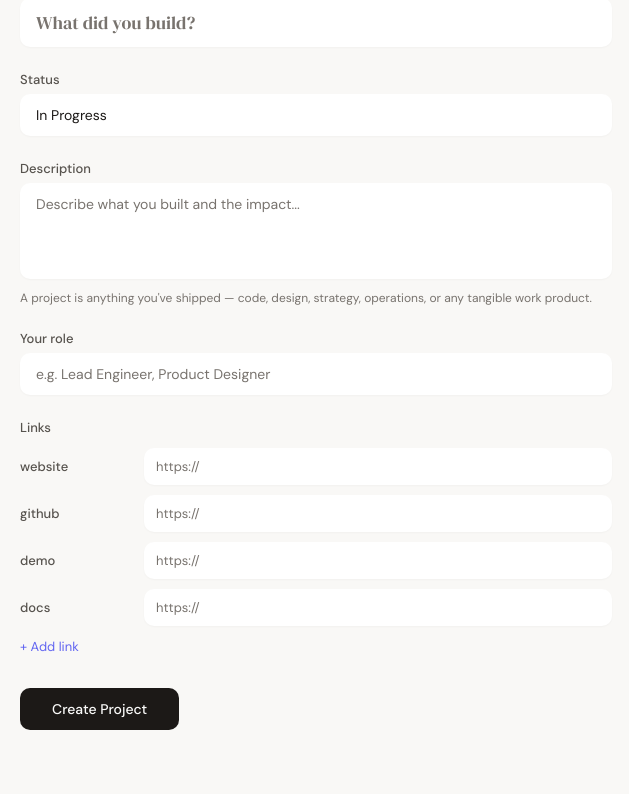
NewProjectPage › removes a custom link row
The image size is (629, 794).
(page scrolled)
Click the button "+ Add link" at (49, 646), box x1=20 y1=638 x2=79 y2=655
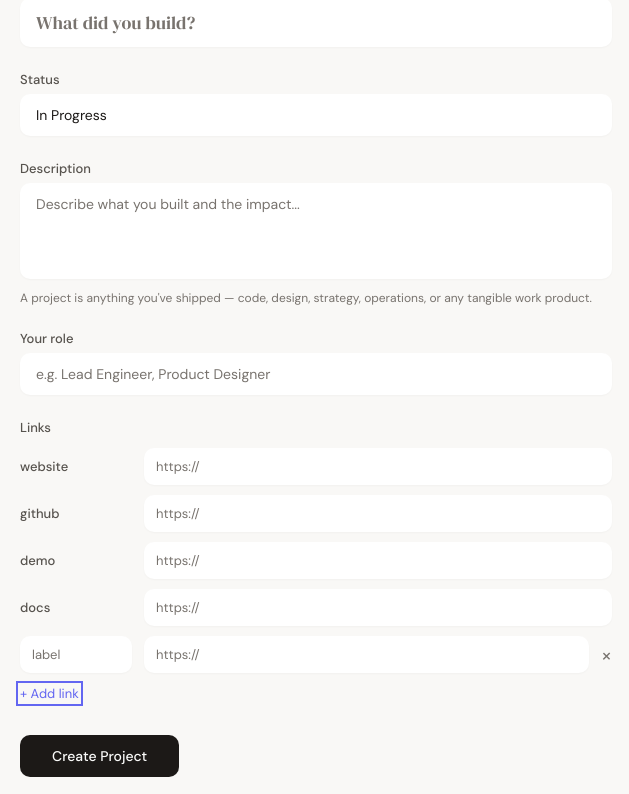
Result: the number of fields with placeholder "https://" is 5 at x1=144 y1=448 x2=612 y2=485; x1=144 y1=495 x2=612 y2=532; x1=144 y1=542 x2=612 y2=579; x1=144 y1=589 x2=612 y2=626; x1=144 y1=636 x2=589 y2=673
Click the button named "Remove link 5" at (606, 654), box x1=601 y1=644 x2=612 y2=664
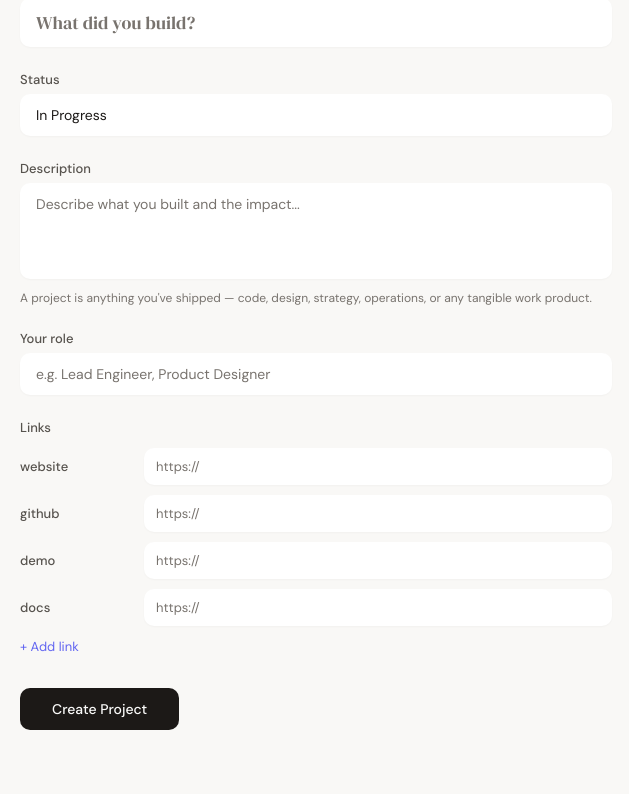
Result: the number of fields with placeholder "https://" is 4 at x1=144 y1=448 x2=612 y2=485; x1=144 y1=495 x2=612 y2=532; x1=144 y1=542 x2=612 y2=579; x1=144 y1=589 x2=612 y2=626
